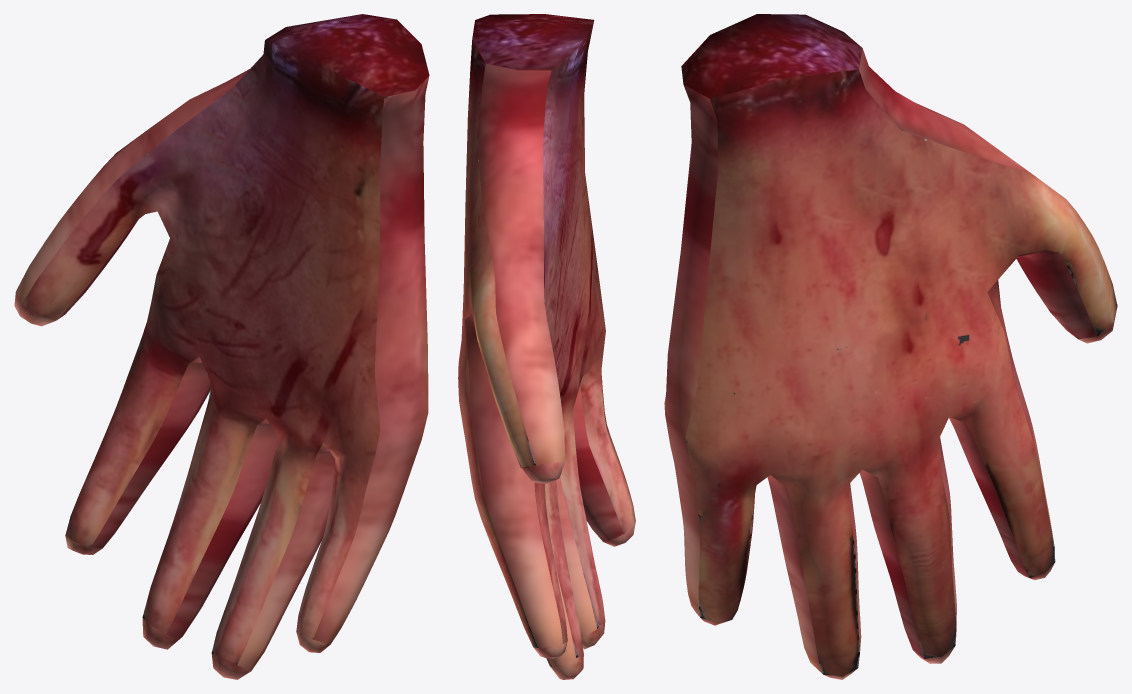
File: flesh_5.glb
3 renders of one model, left to right at view 1: azimuth 30°, elevation 25°; view 2: azimuth 150°, elevation 25°; view 3: azimuth 270°, elevation 25°, orthographic. The views are drawn at different scales.
Visible parts, largest first — view 1: trozo 5; view 2: trozo 5; view 3: trozo 5.
Boxes of the visible parts, bbox=[...] form: trozo 5: bbox=[14, 14, 429, 679]; trozo 5: bbox=[458, 14, 635, 679]; trozo 5: bbox=[664, 14, 1117, 679].
Bounding box in the file's own units: 0.1559 × 0.3979 × 0.2397.
1 material, 1 textured.
